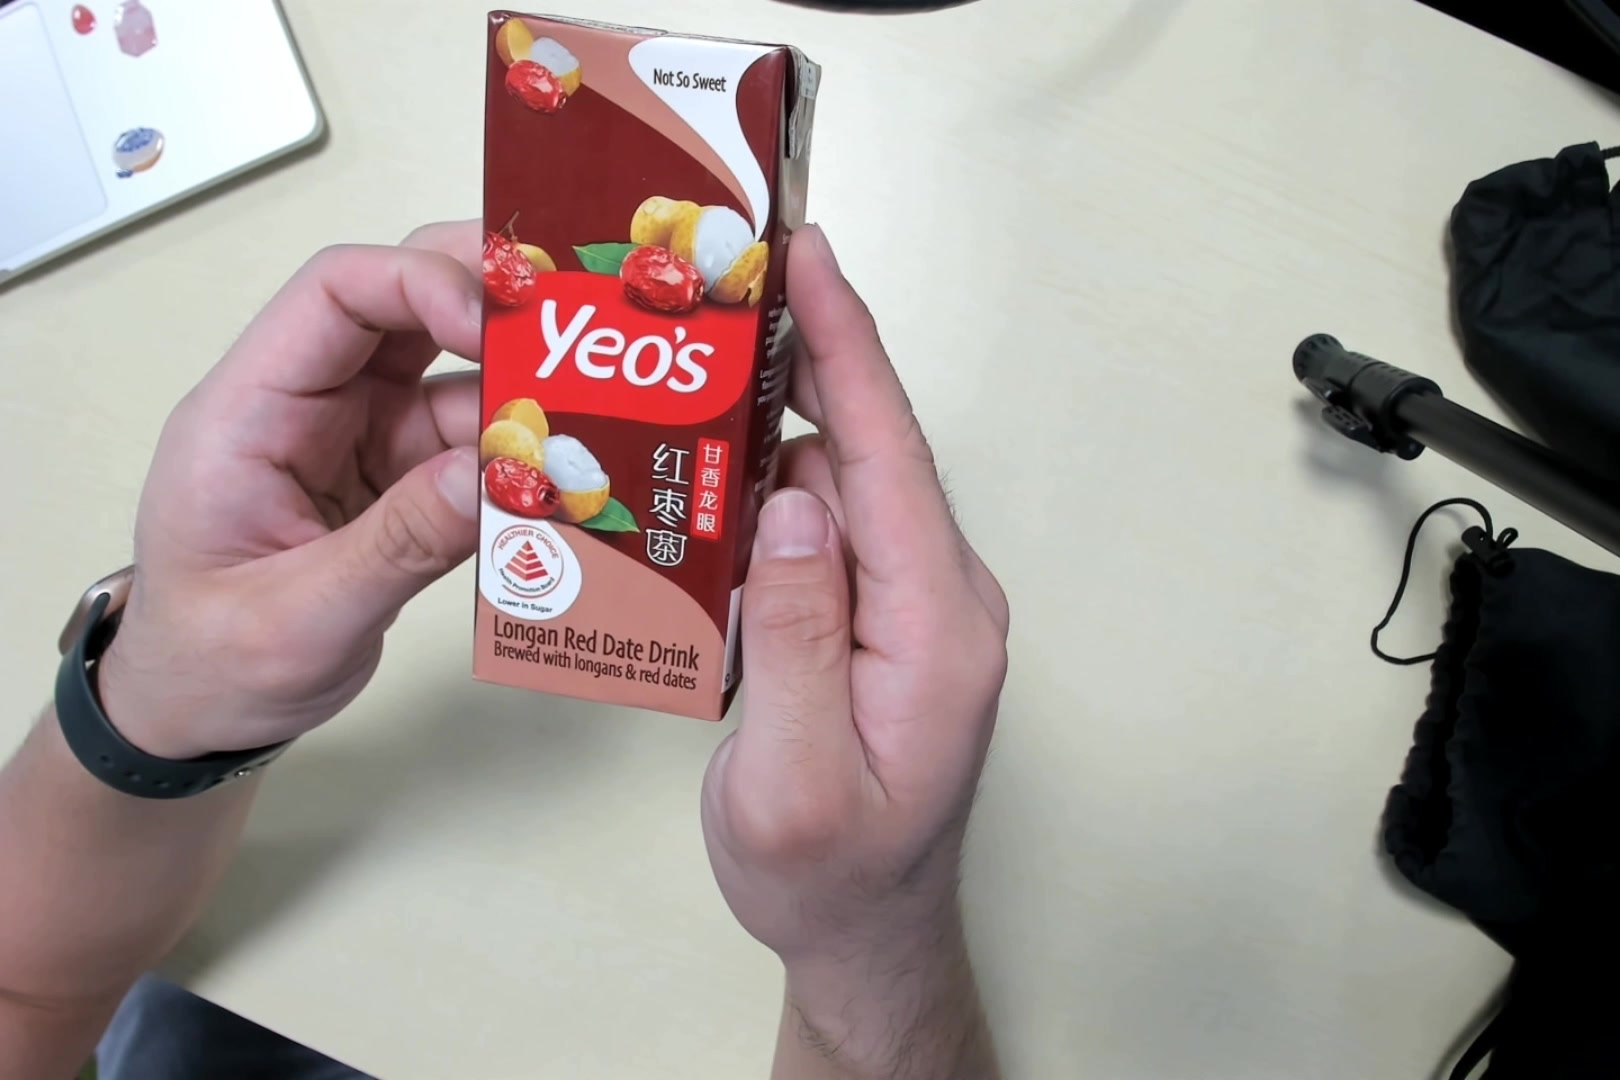TeaDrink_200-299g_Halal_Healthy: (470, 6, 818, 722)
